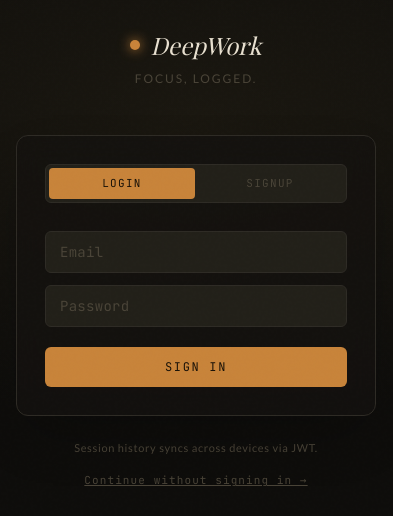
Test: AuthUI (AuthScreen Component) › should handle network error gracefully
Type "user@example.com" into the field with placeholder "Email" at [196, 252], box [45,231,347,273]
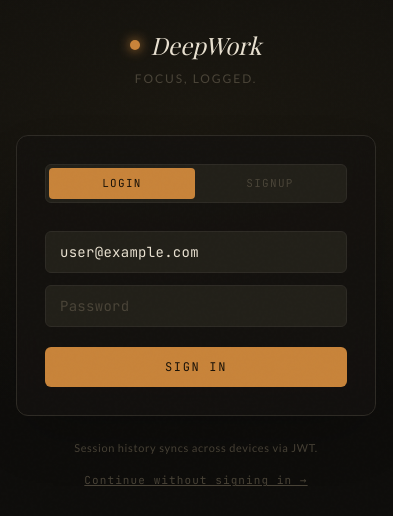
Type "pass123" into the password field with placeholder "Password" at [196, 306], box [45,285,347,327]
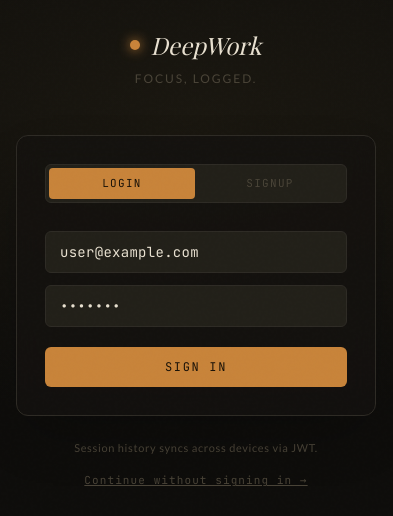
Click the button "SIGN IN" at [196, 367], box [45,347,347,387]
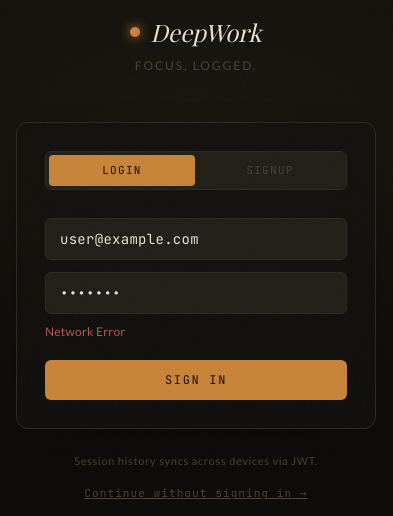
expect the text "Network Error" is shown: met, box [45,324,125,339]
